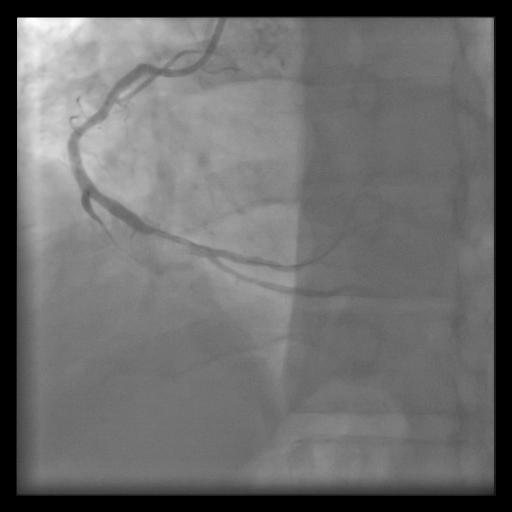Stenosis: (151, 220, 199, 257)
